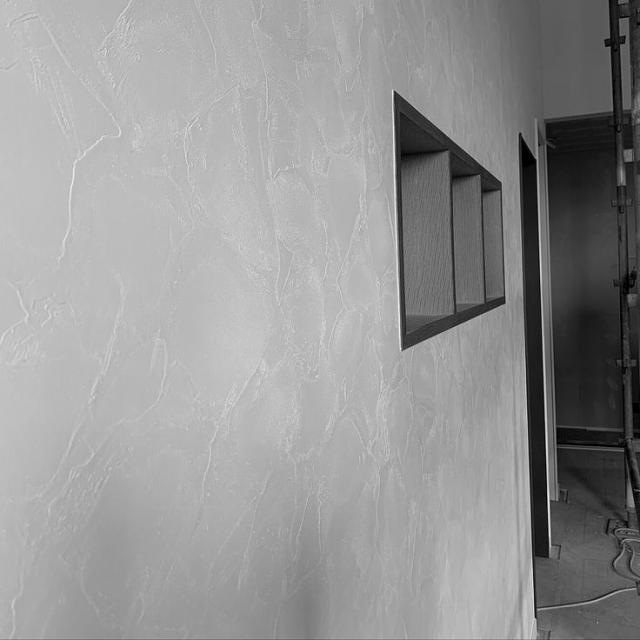trowels marks: (0, 0, 384, 640), (385, 311, 512, 640), (386, 0, 517, 174)
